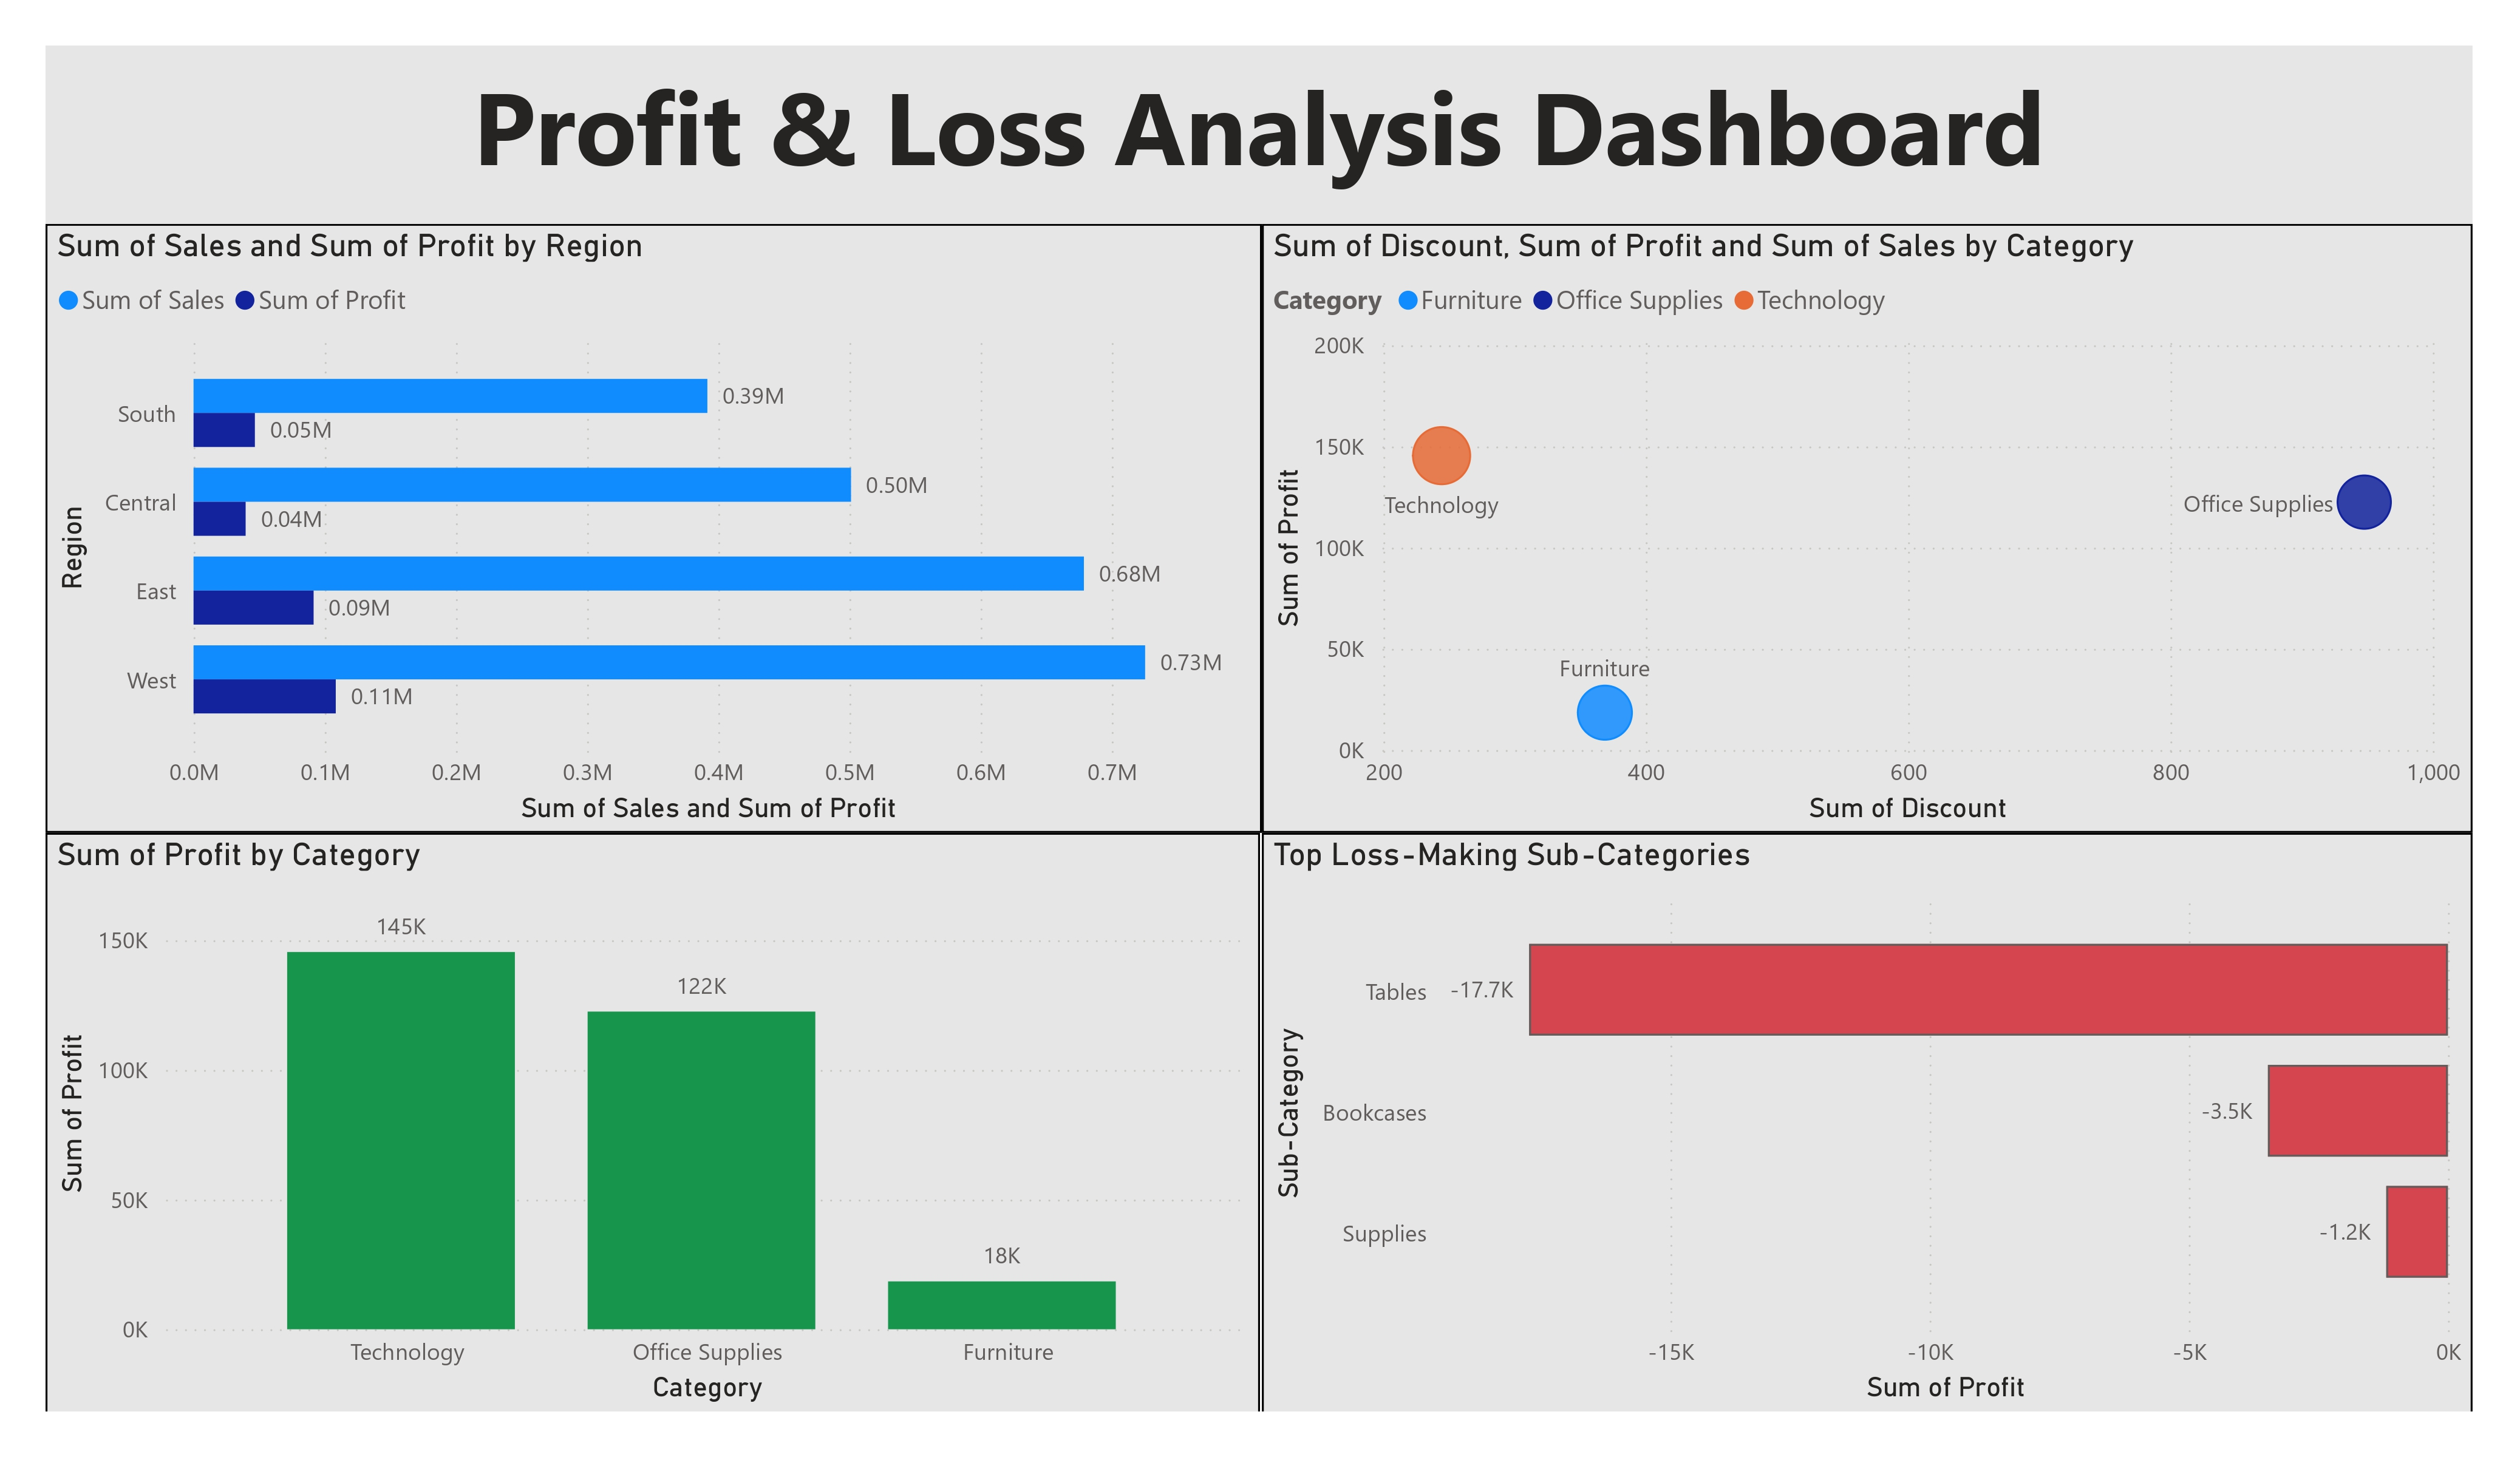

The dashboard page shown, as its layout file describes it:
{"tool":"powerbi","page":{"name":"Detailed Ananlysis","canvas":[1280,720],"ordinal":1},"visuals":[{"type":"clusteredBarChart","fields":{"Category":["SampleSuperstore.Region"],"Y":["Sum(SampleSuperstore.Sales)","Sum(SampleSuperstore.Profit)"]},"box":[0,93.9,641.2,320.6],"z":0},{"type":"columnChart","fields":{"Category":["SampleSuperstore.Category"],"Y":["Sum(SampleSuperstore.Profit)"]},"box":[0,414,642,306],"z":1},{"type":"scatterChart","fields":{"X":["Sum(SampleSuperstore.Discount)"],"Y":["Sum(SampleSuperstore.Profit)"],"Size":["Sum(SampleSuperstore.Sales)"],"Series":["SampleSuperstore.Category"]},"box":[641.2,93.9,638,320.6],"z":2},{"type":"clusteredBarChart","title":"Top Loss-Making Sub-Categories","fields":{"Category":["SampleSuperstore.Sub-Category"],"Y":["Sum(SampleSuperstore.Profit)"]},"box":[641.2,414.5,638,306],"z":3},{"type":"textbox","box":[0,0,1279.2,93.9],"z":4}]}

Visuals, with their boxes in screenshot pixels (x1, y1, x2, y2):
clusteredBarChart - SampleSuperstore.Region x Sum(SampleSuperstore.Sales): l=59, t=222, r=1260, b=822
columnChart - SampleSuperstore.Category x Sum(SampleSuperstore.Profit): l=59, t=821, r=1261, b=1394
scatterChart - Sum(SampleSuperstore.Discount) x Sum(SampleSuperstore.Profit): l=1260, t=222, r=2454, b=822
"Top Loss-Making Sub-Categories" clusteredBarChart: l=1260, t=822, r=2454, b=1395
textbox: l=59, t=46, r=2454, b=222
